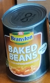beans: (2, 2, 48, 82)
